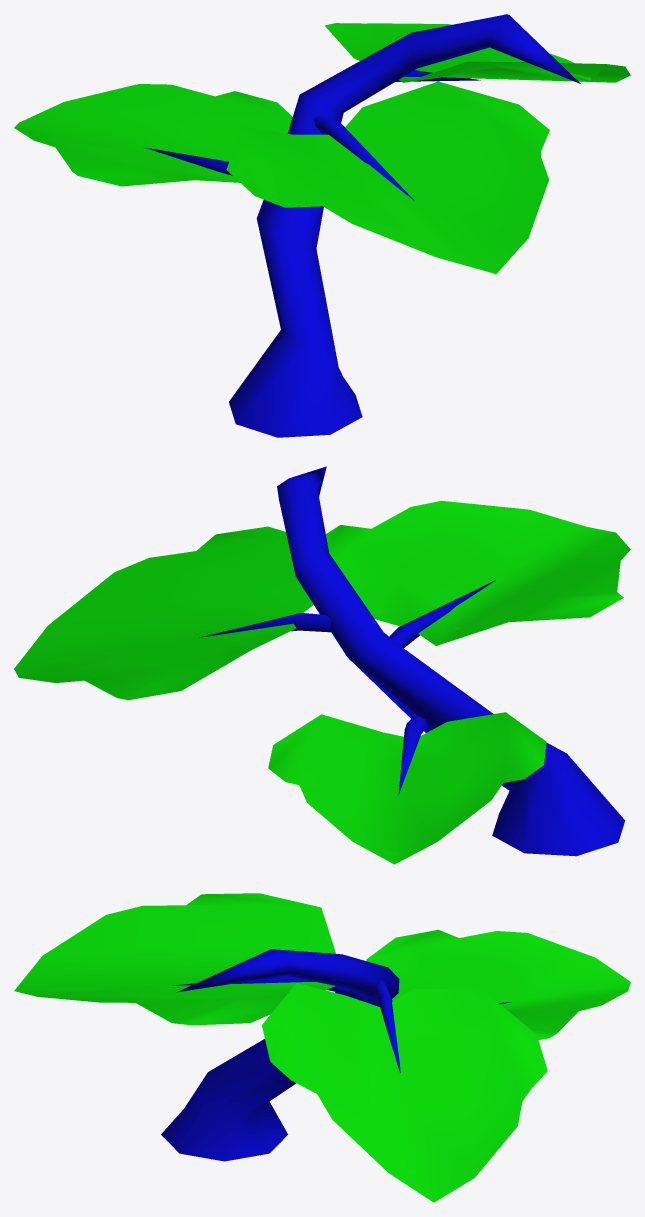
File: Pumpkin_2.fbx
The picture shows the model from 3 angles, top to bottom: view 1: azimuth 30°, elevation 25°; view 2: azimuth 150°, elevation 25°; view 3: azimuth 270°, elevation 25°; orthographic projection. The views are drawn at different scales.
Visible parts, largest first — view 1: BSTC_Pumpkin_2; view 2: BSTC_Pumpkin_2; view 3: BSTC_Pumpkin_2.
Part boxes in pixels (box(x1,y1,x2,y2)): BSTC_Pumpkin_2: box(14, 14, 630, 437); BSTC_Pumpkin_2: box(14, 466, 630, 864); BSTC_Pumpkin_2: box(14, 893, 630, 1202).
Size of the model in its own units: 59.51 by 33.42 by 64.59.
